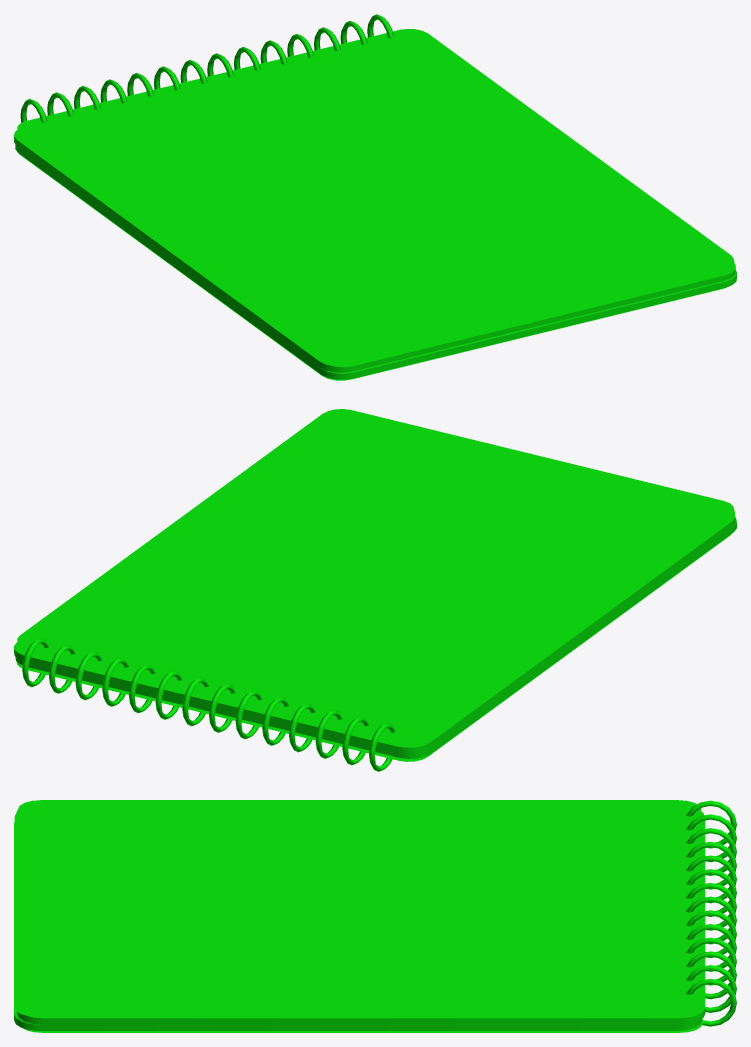
File: Notebook.fbx
The picture shows the model from 3 angles, top to bottom: view 1: azimuth 30°, elevation 25°; view 2: azimuth 150°, elevation 25°; view 3: azimuth 270°, elevation 25°; orthographic projection. The views are drawn at different scales.
Parts seen in each view (by area): view 1: Notebook; view 2: Notebook; view 3: Notebook.
Part boxes in pixels (<box>): Notebook: <box>14,14,736,380</box>; Notebook: <box>14,409,736,771</box>; Notebook: <box>14,800,736,1032</box>.
Size of the model in its own units: 21.87 by 2.31 by 31.5.
